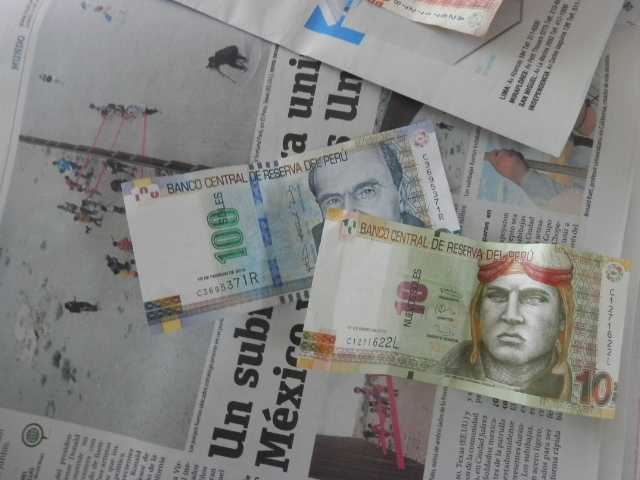B10: (298, 206, 625, 430)
B100: (119, 131, 461, 276)
